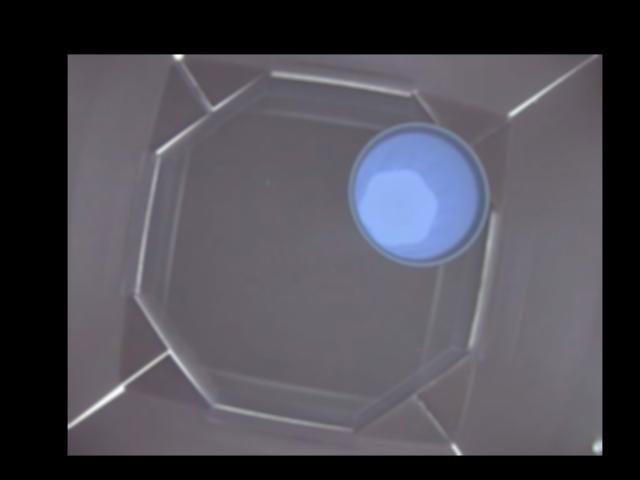Cup: (349, 121, 489, 265)
